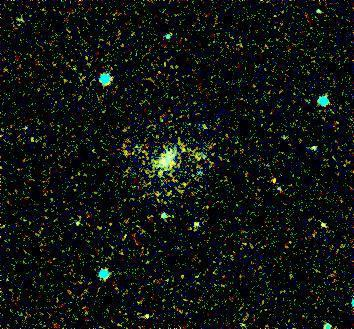star: (259, 166, 289, 196)
